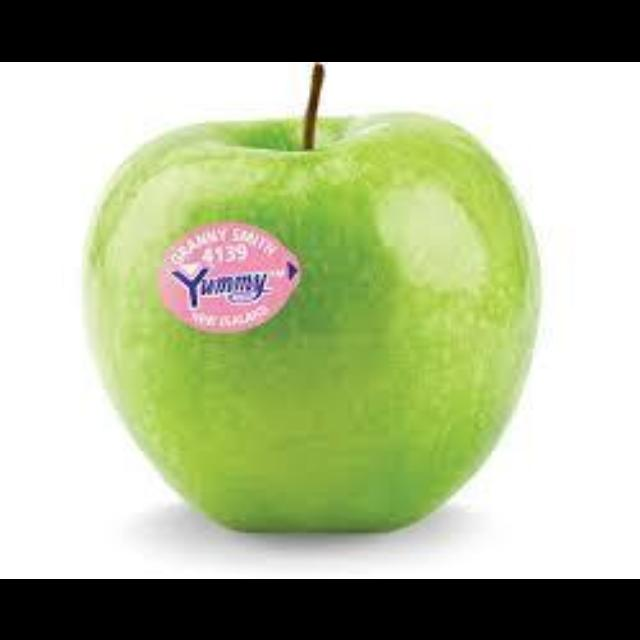apple: (84, 61, 538, 529)
